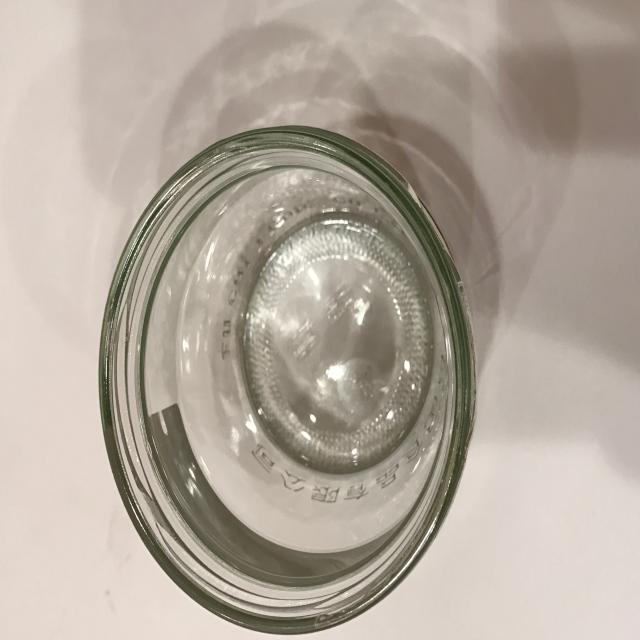glass: (98, 123, 478, 634)
